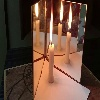fire: (49, 5, 55, 48)
